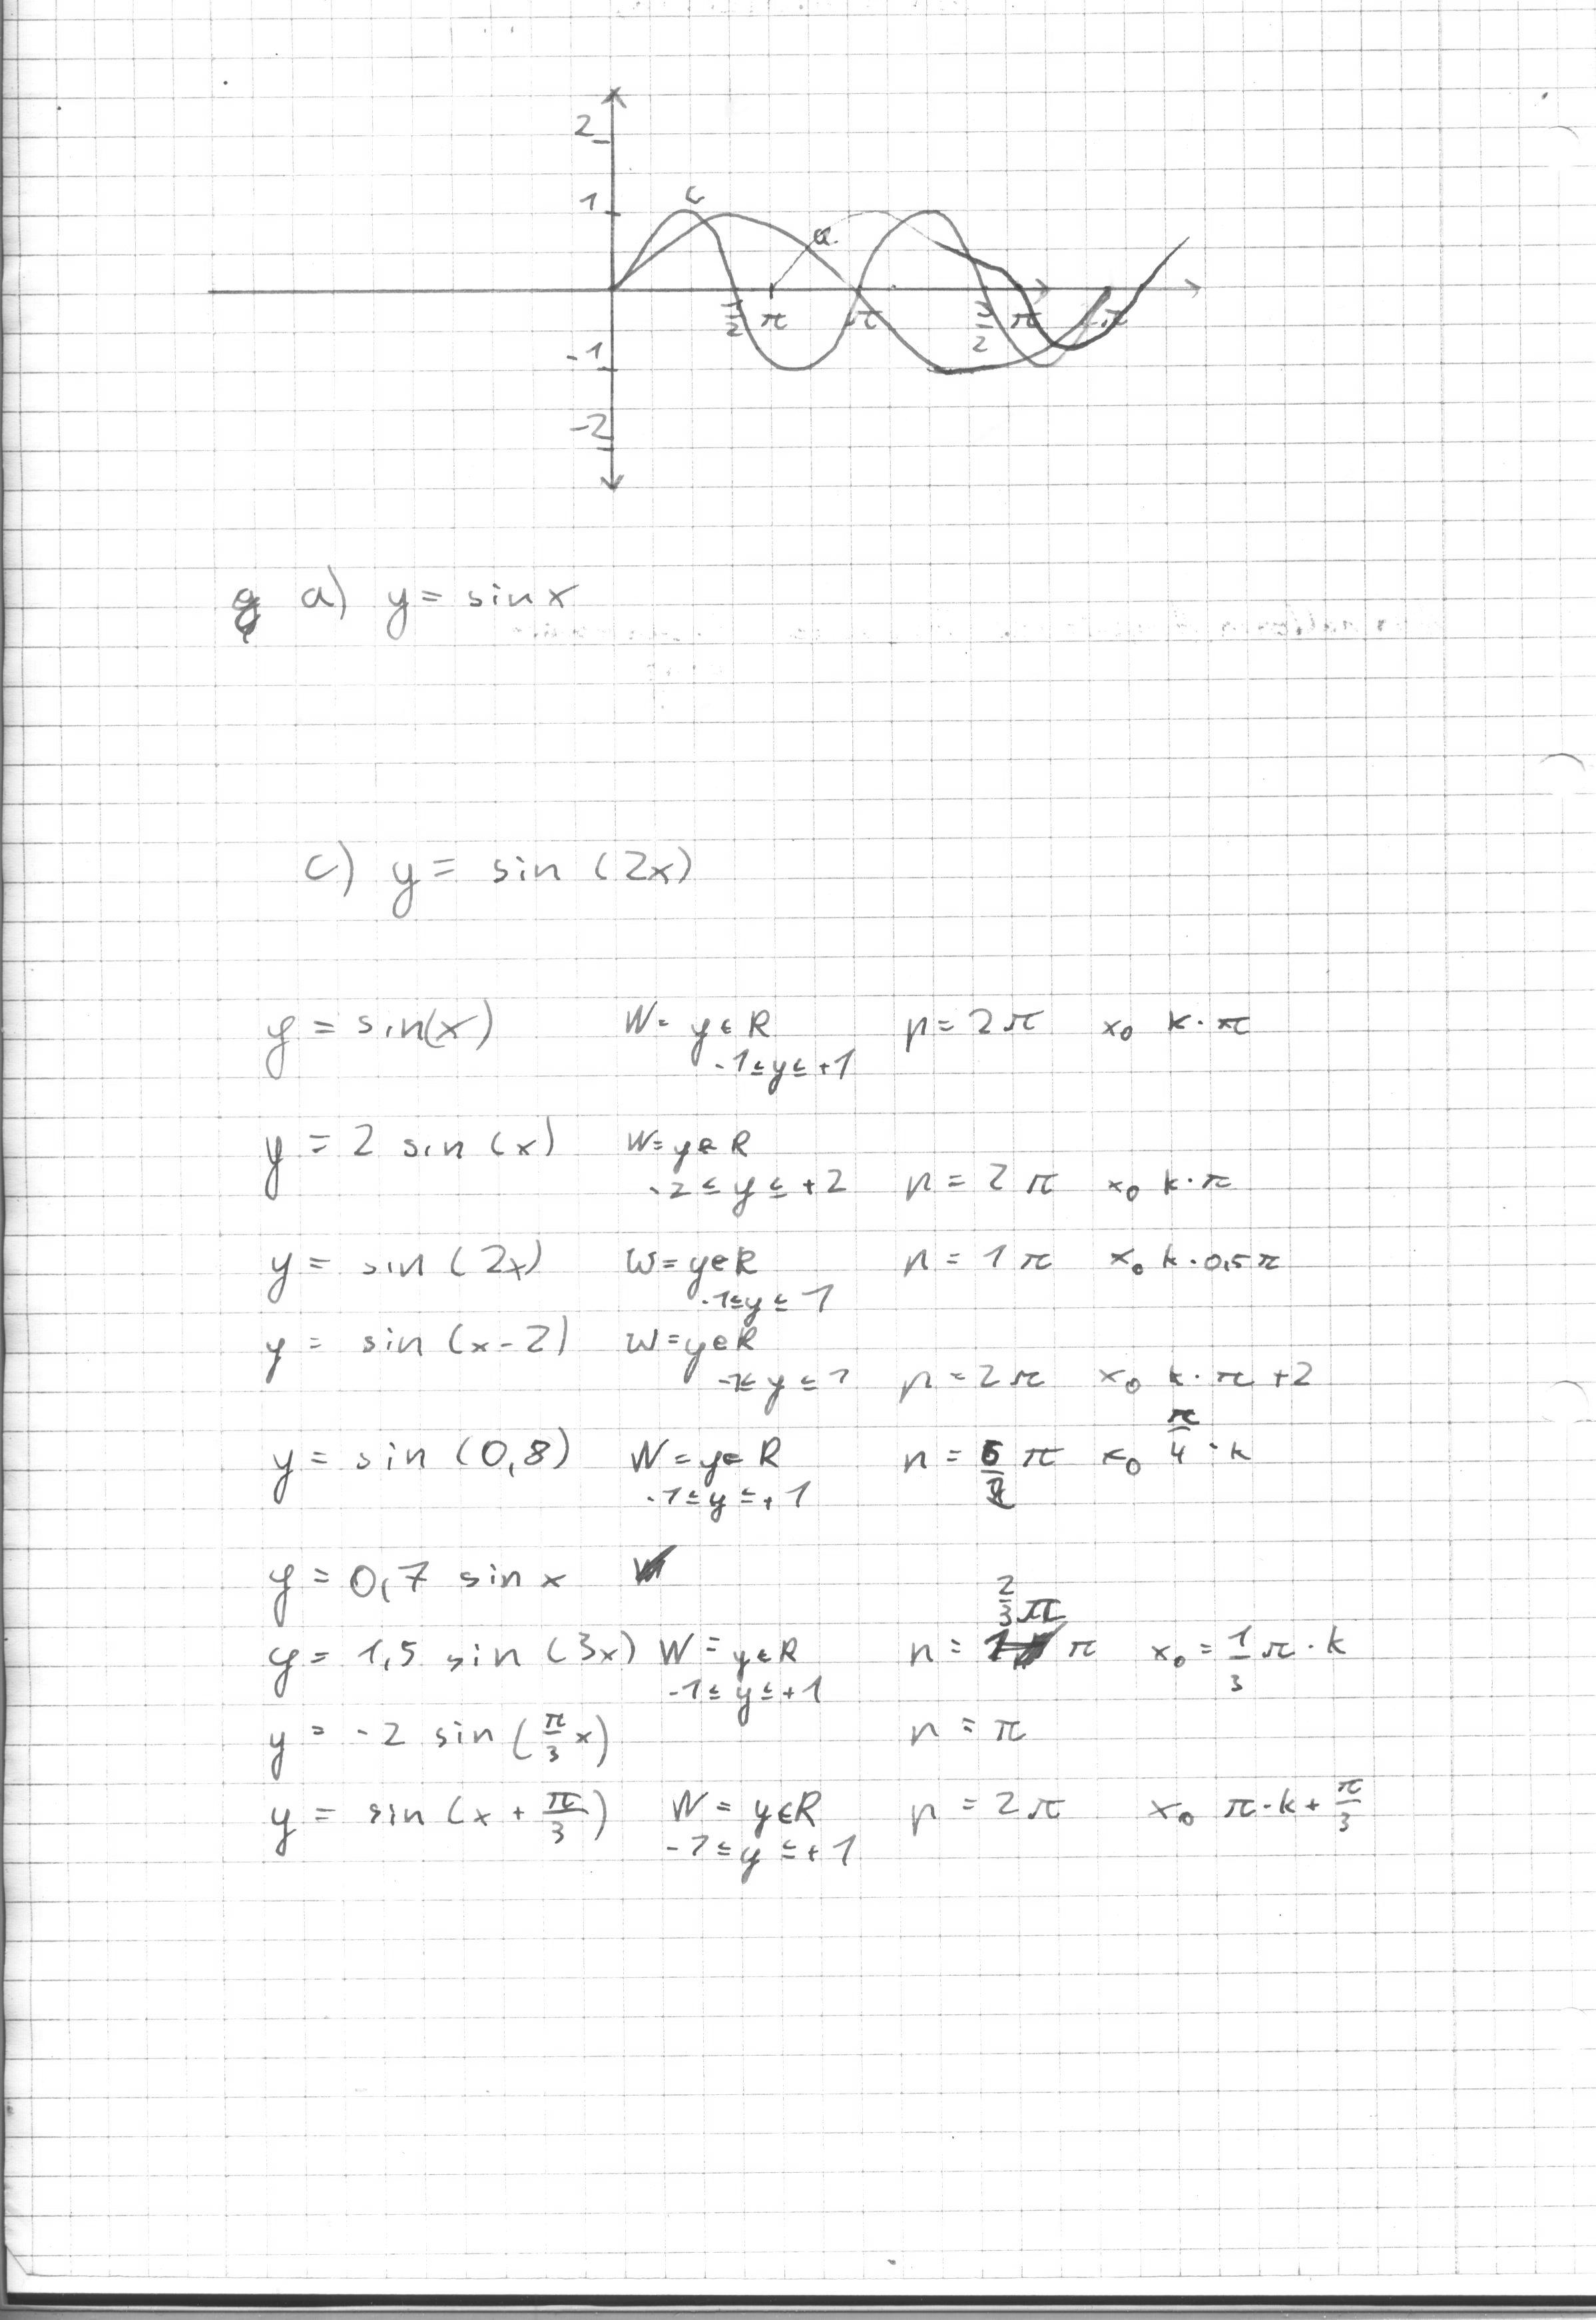word: (250, 1536, 877, 1904), (225, 1221, 862, 1536), (223, 972, 874, 1229), (894, 1568, 1392, 1870), (149, 512, 629, 681), (884, 1344, 1324, 1509), (267, 788, 732, 944), (882, 1131, 1292, 1305), (880, 958, 1282, 1089)
